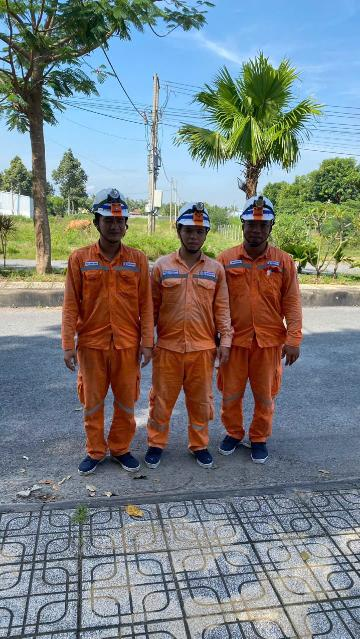helmet: (237, 191, 292, 229), (90, 190, 143, 221), (175, 198, 223, 229)
shoes: (176, 423, 222, 469), (212, 413, 249, 463), (69, 441, 110, 478), (139, 431, 176, 470), (252, 417, 273, 475), (107, 442, 144, 473)
